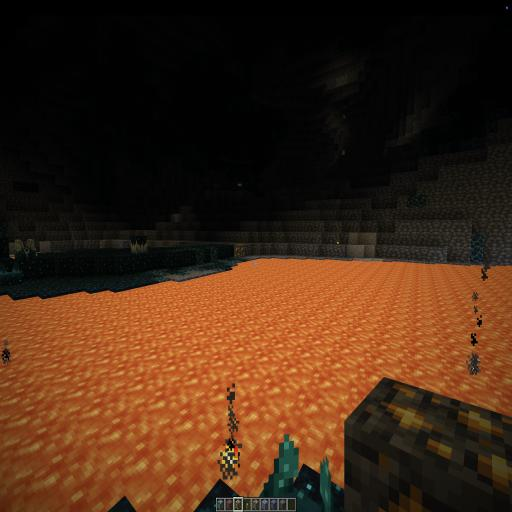gold ore: (232, 241, 246, 258), (98, 237, 107, 249)
lapis ore: (118, 237, 130, 251)
redstone ore: (382, 256, 405, 264)
